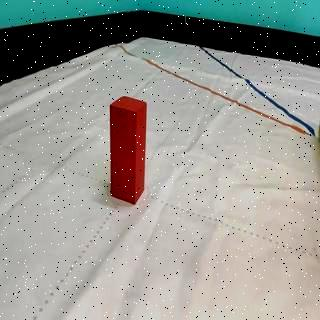redbox: (110, 95, 146, 205)
